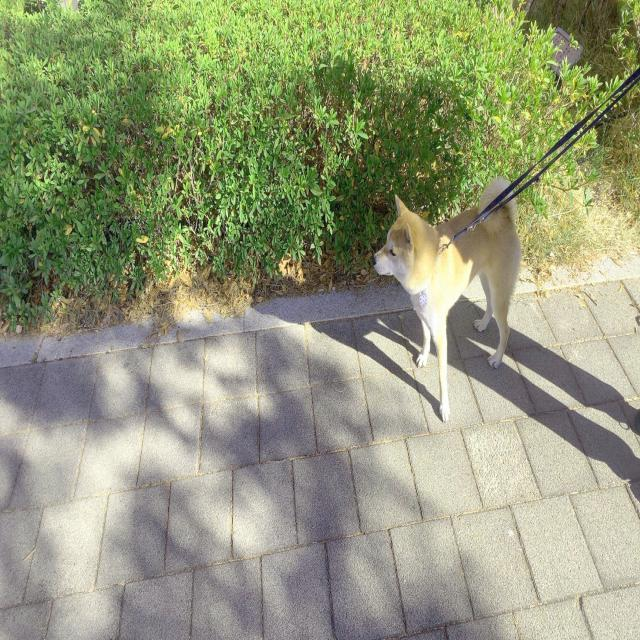Dog: (373, 176, 522, 423)
